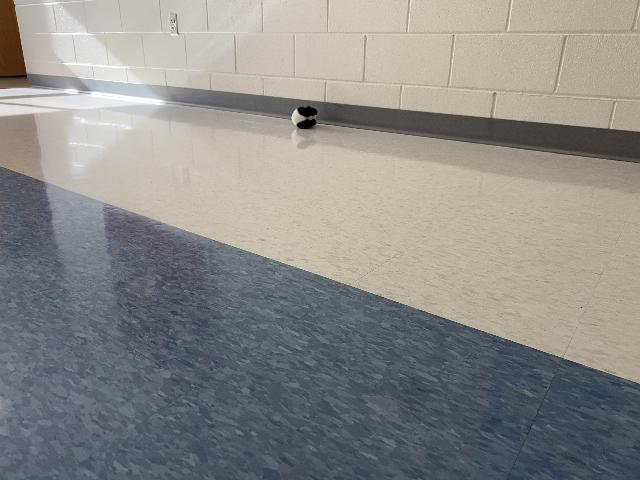panda_plushie: (292, 107, 318, 128)
